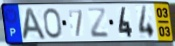4: (138, 5, 156, 40), (118, 6, 134, 39)
7: (68, 9, 84, 38)
A: (20, 7, 48, 42)
O: (42, 7, 63, 40)
Z: (86, 7, 110, 39)
